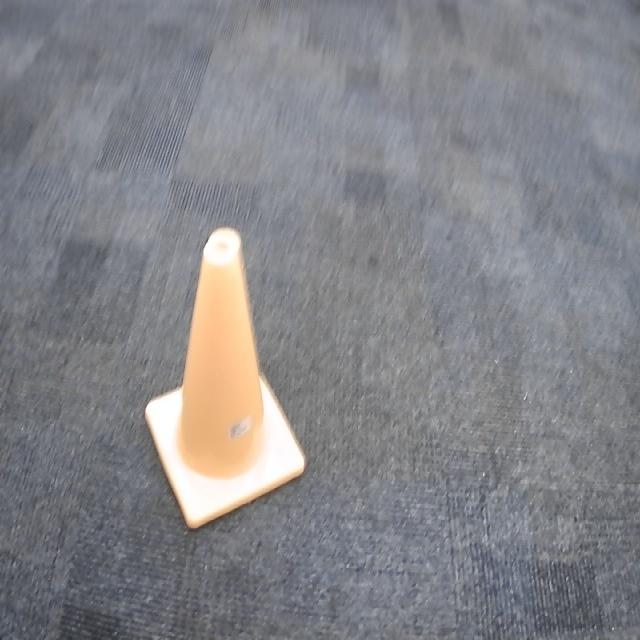cone: (142, 224, 308, 536)
